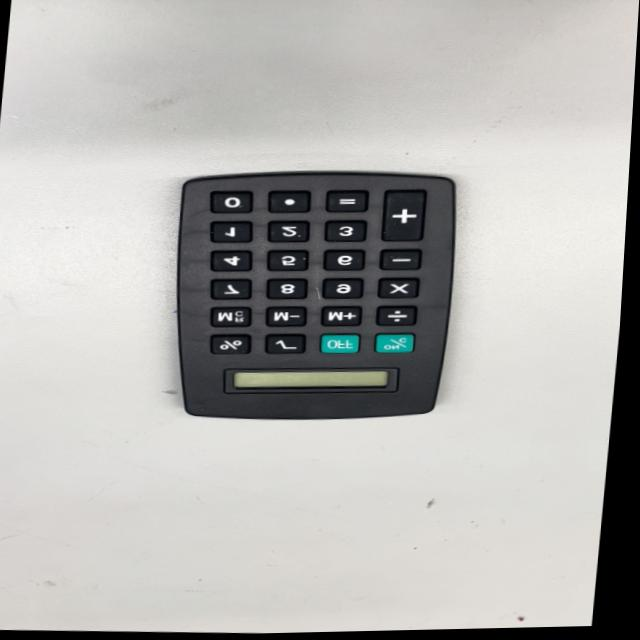calculator: (158, 158, 463, 430)
